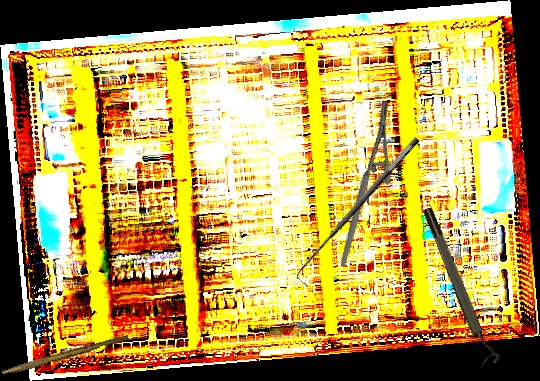Fixation Ring: (419, 203, 502, 369)
Hook Surgical: (289, 134, 431, 288)
Needle Holder: (293, 99, 434, 268)
Scalpel Handle: (1, 332, 130, 379)
